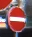No entry: (5, 5, 27, 32)
